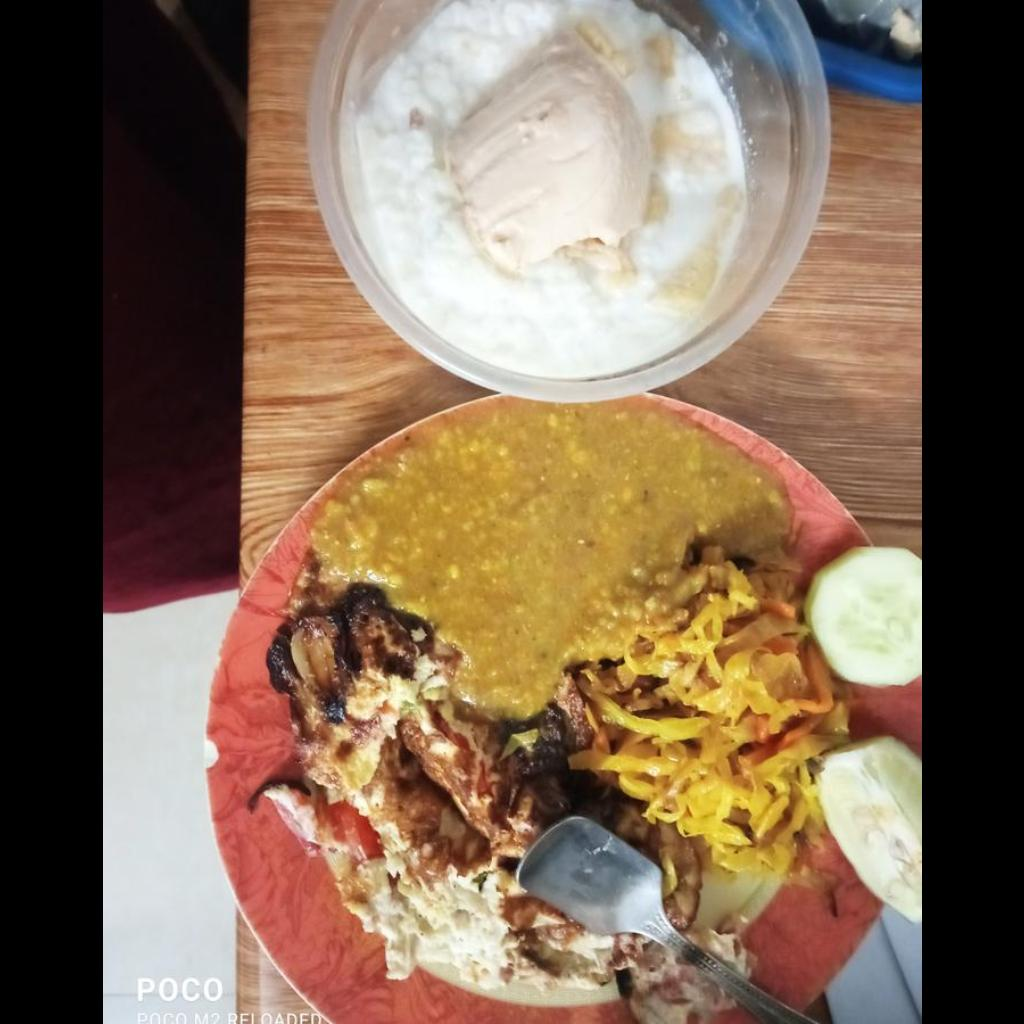cucumber: (806, 550, 920, 690)
daal: (315, 414, 775, 718)
egg-poached: (267, 571, 638, 1005)
lemon: (817, 737, 920, 922)
payesh: (355, 4, 759, 363)
vaji: (582, 576, 827, 880)
